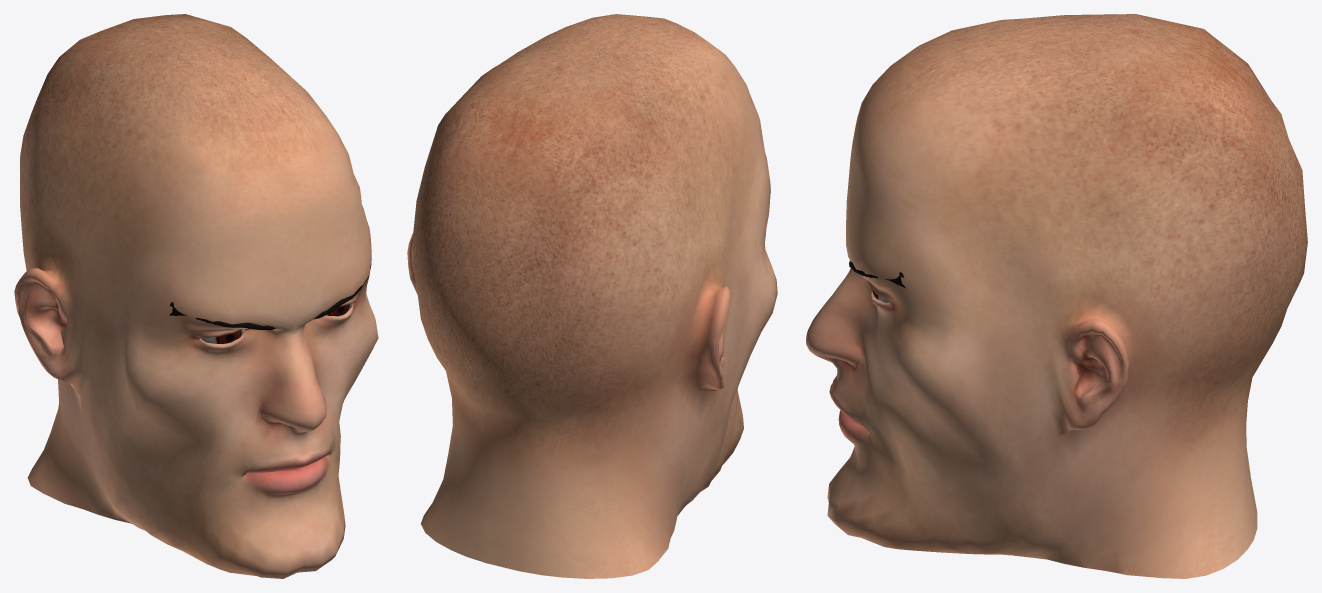
Rendered from head_8_trueadam.fbx.
3 views of the same model, side by side, from view 1: azimuth 30°, elevation 25°; view 2: azimuth 150°, elevation 25°; view 3: azimuth 270°, elevation 25° (orthographic). The views are drawn at different scales.
Visible parts, largest first — view 1: head_8_trueadam; view 2: head_8_trueadam; view 3: head_8_trueadam.
Boxes of the visible parts, x1,y1,x2,y2 form: head_8_trueadam: (14, 14, 378, 578); head_8_trueadam: (407, 14, 777, 578); head_8_trueadam: (806, 14, 1307, 578).
Size of the model in its own units: 72.35 by 100 by 92.72.
Materials: 1 (1 with a texture image).
